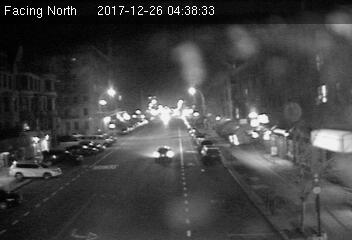car: (199, 144, 222, 161), (154, 145, 173, 161)
